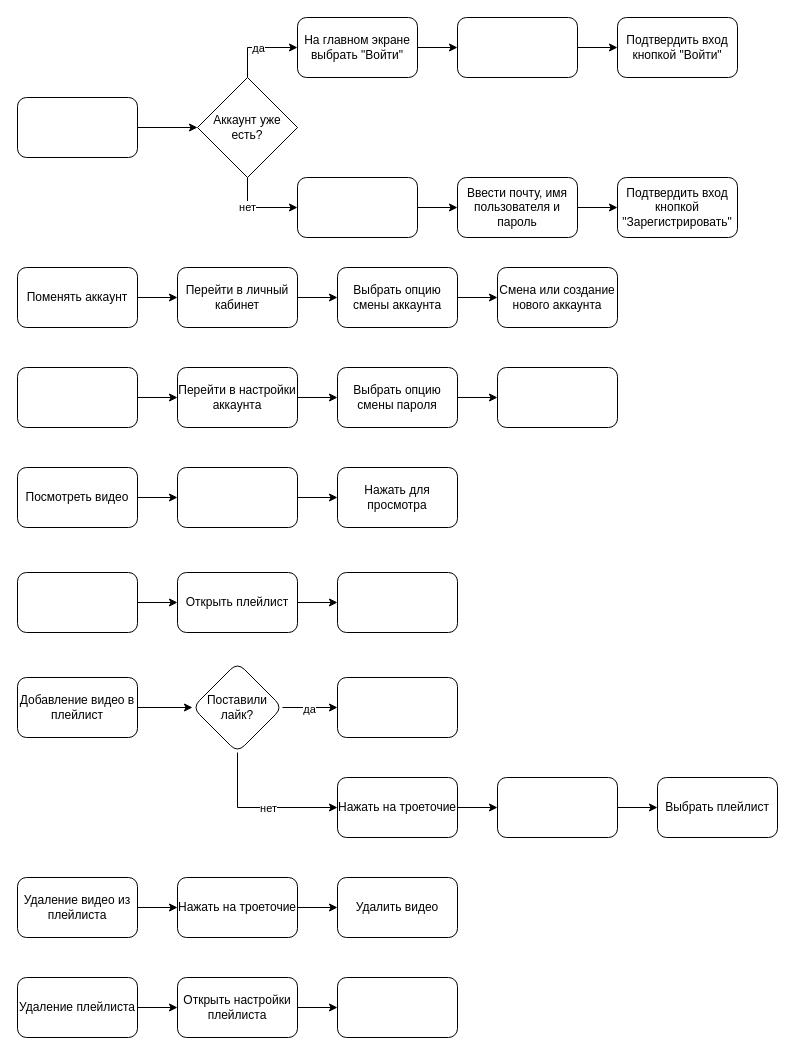
Some shapes in this 795 by 1055 pixel diagram are drawn without their labels. The centre of each missing label's shape, as x and y in pixels:
Авторизация в приложении: (x=77, y=127)
Вписать имя пользователя и пароль: (x=517, y=47)
Выбрать видео: (x=397, y=602)
Добавить в плейлист: (x=557, y=807)
Добавить видео в плейлист "Понравившиеся": (x=397, y=707)
Изменить пароль аккаунта: (x=77, y=397)
Изменить пароль на желаемый и подтвердить изменения: (x=557, y=397)
На главном экране выбрать "Зарегистрировать": (x=357, y=207)
Найти видео: (x=237, y=497)
Просмотреть добавленное видео: (x=77, y=602)
Удалить плейлист: (x=397, y=1007)
